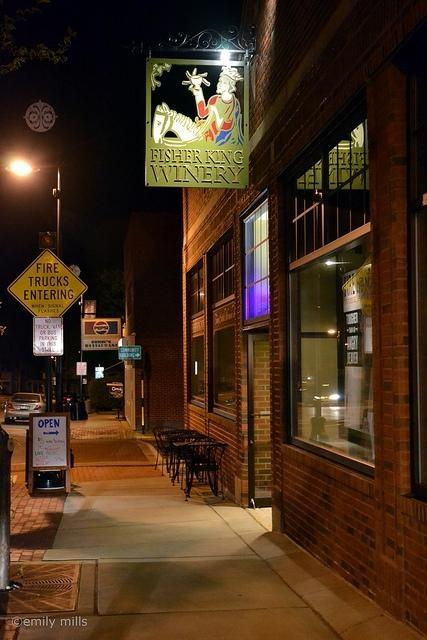car: (4, 390, 47, 424), (62, 390, 79, 407)
